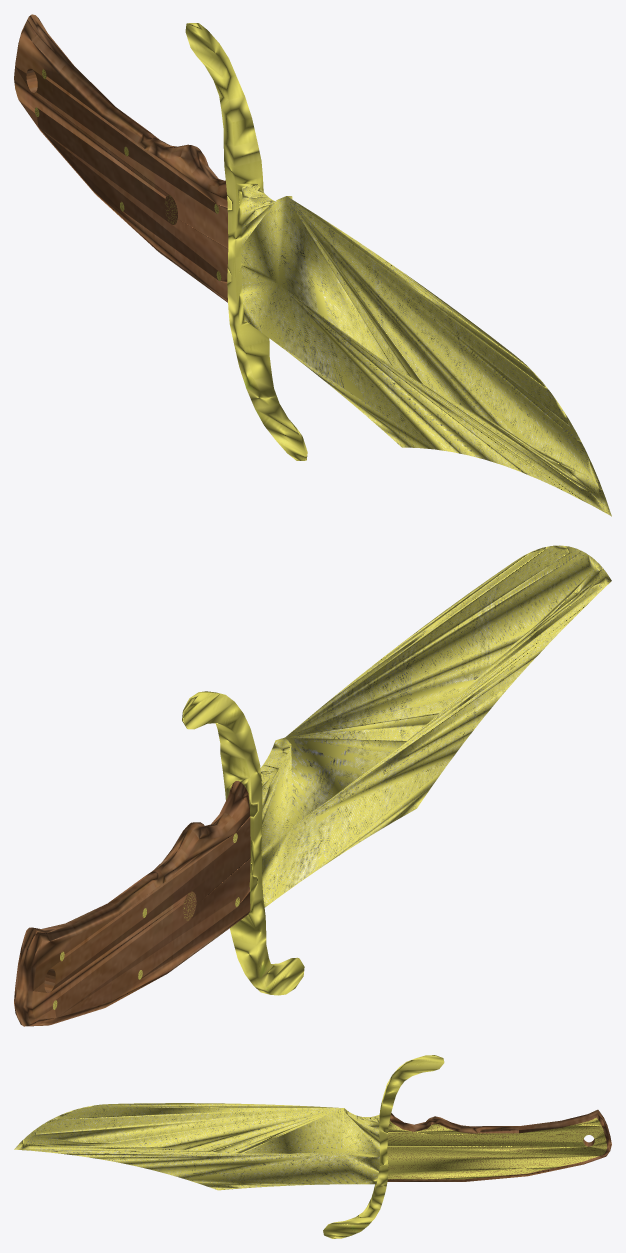
File: model_align.obj
3 views of the same model, one above another, from view 1: azimuth 30°, elevation 25°; view 2: azimuth 150°, elevation 25°; view 3: azimuth 270°, elevation 25° (orthographic). The views are drawn at different scales.
Size of the model in its own units: 0.0056 by 0.0708 by 0.2098.
